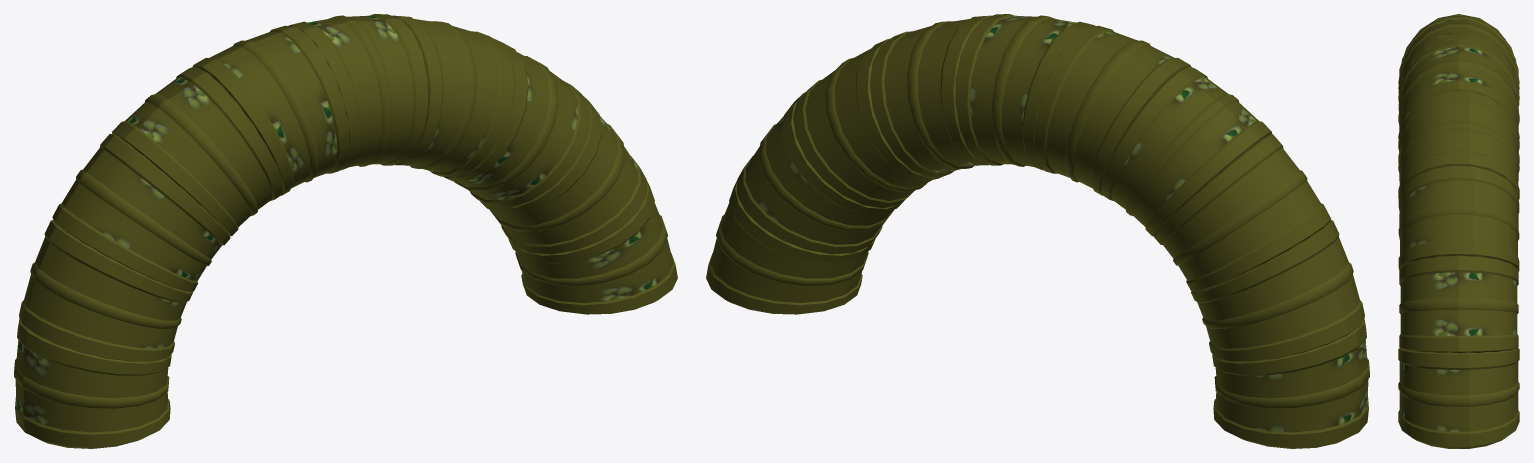
The model's file is Pipe_a_180.FBX.
The picture shows the model from 3 angles, left to right: view 1: azimuth 30°, elevation 25°; view 2: azimuth 150°, elevation 25°; view 3: azimuth 270°, elevation 25°; orthographic projection. The views are drawn at different scales.
Parts seen in each view (by area): view 1: Pipe_a_180; view 2: Pipe_a_180; view 3: Pipe_a_180.
Part boxes in pixels (x1,y1,x2,y2): Pipe_a_180: (14, 14, 677, 448); Pipe_a_180: (706, 14, 1369, 448); Pipe_a_180: (1398, 14, 1519, 448).
Size of the model in its own units: 6.69 by 1.33 by 3.37.
